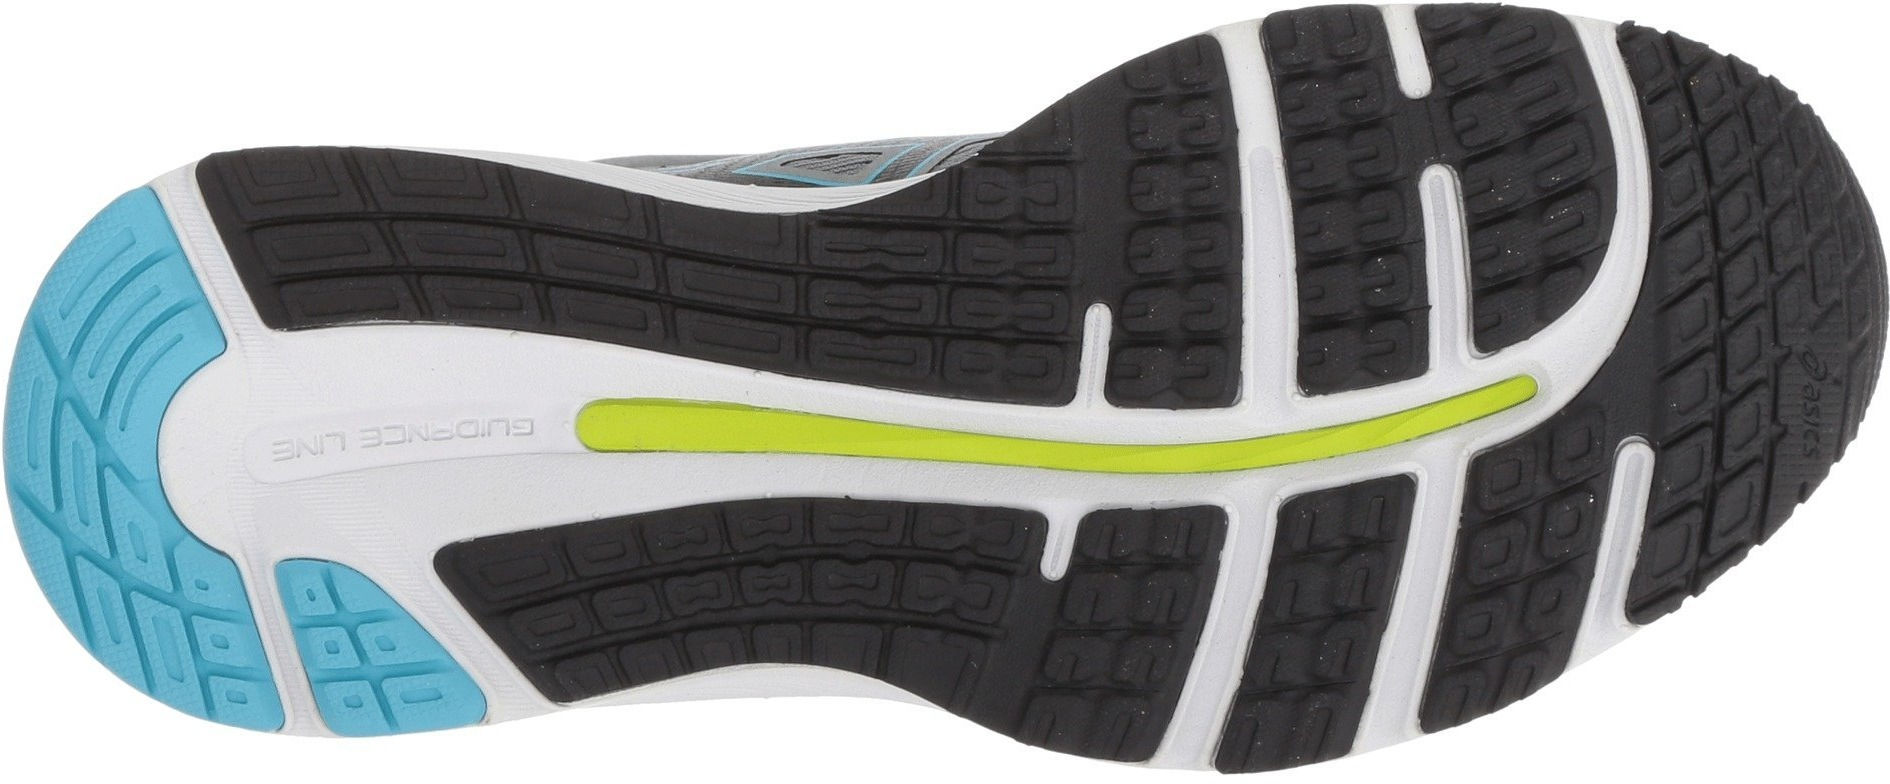bowtie: (847, 201, 1080, 417), (802, 440, 1032, 628)
exclude: (319, 0, 1100, 216), (483, 662, 974, 782)
quad: (1274, 24, 1579, 328), (1410, 408, 1636, 669), (999, 493, 1260, 708), (1228, 470, 1432, 681), (1656, 138, 1853, 345)
ribbon: (192, 283, 562, 601), (554, 316, 821, 555), (1151, 339, 1363, 543)
text: (350, 388, 457, 482), (256, 408, 356, 497), (1763, 381, 1844, 463), (452, 394, 535, 468)
